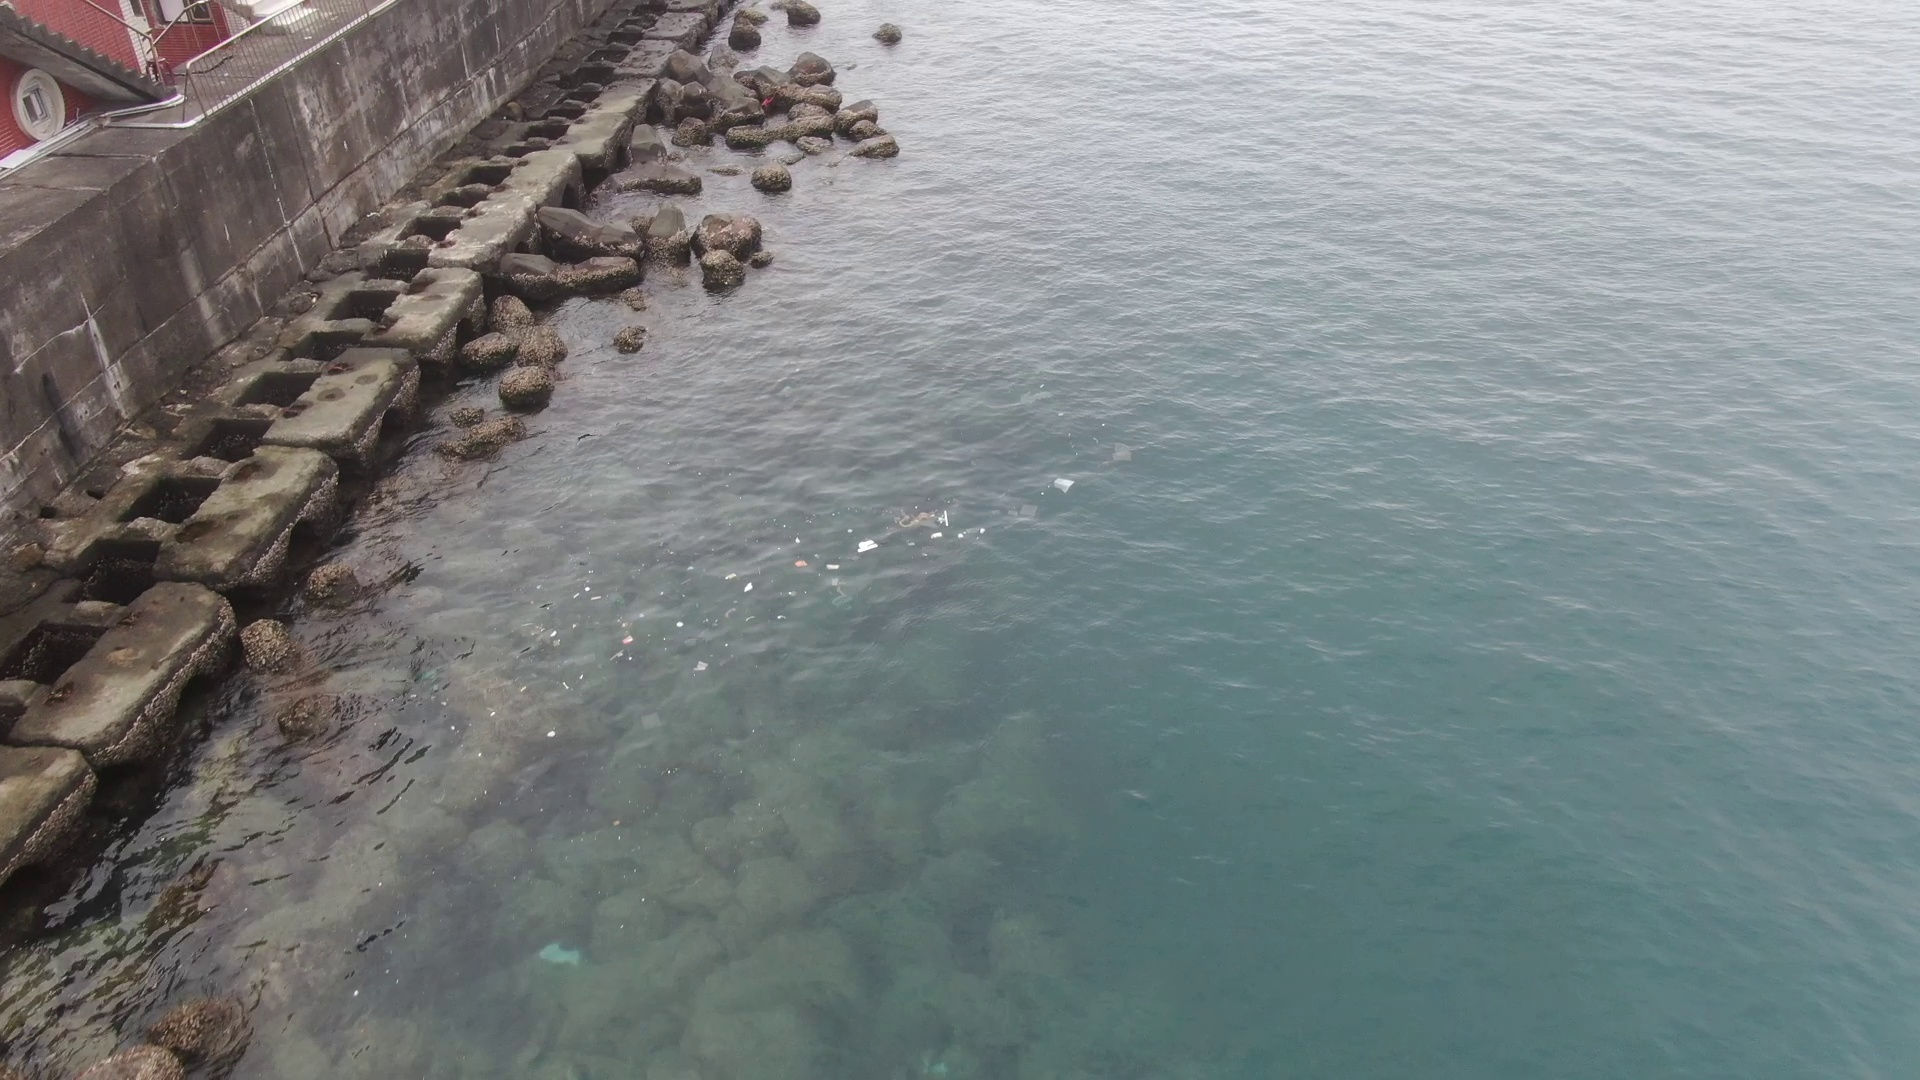garbage: (495, 431, 1137, 713)
